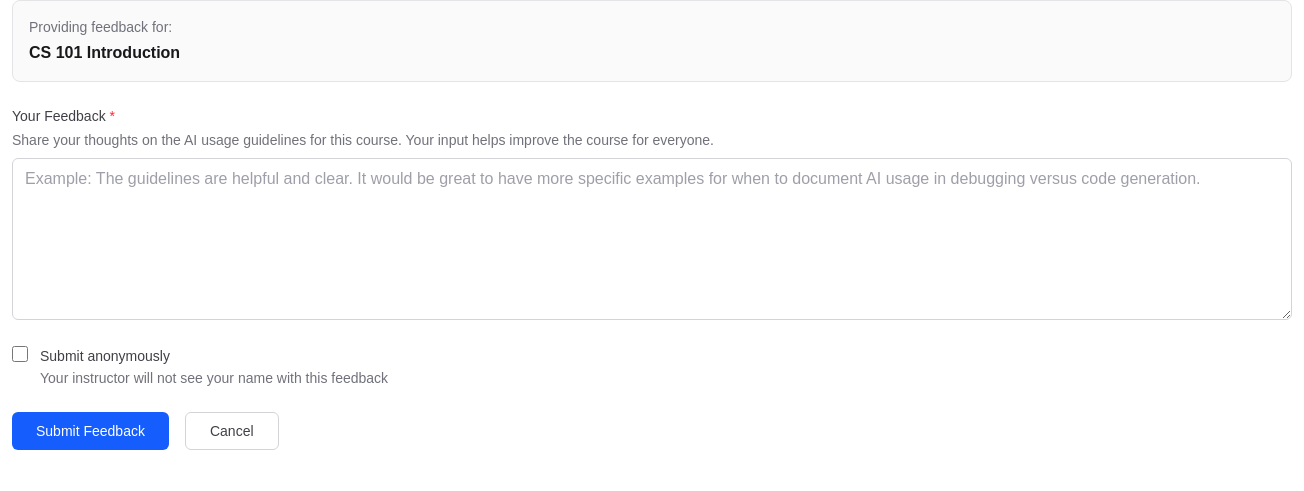
Test: FeedbackForm Component › shows validation errors when fields are empty / too short on submit
This screenshot has width=1304, height=491.
// Type too little
Type "short" into the text box labelled "Your Feedback *".
click(652, 239); type("short")  # box [12,158,1292,320]
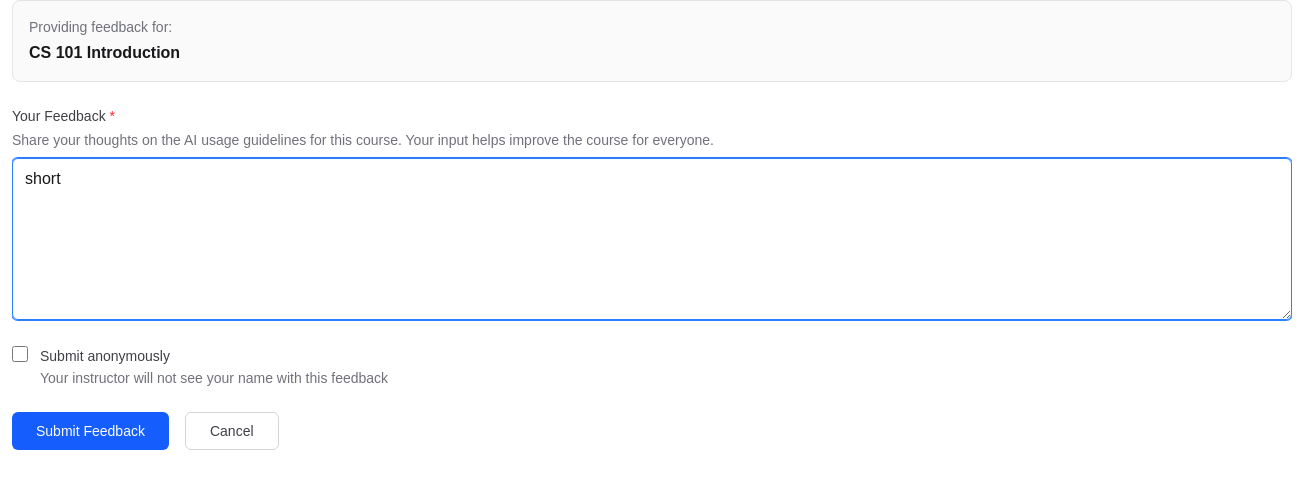
Click the button "Submit Feedback".
click(90, 431)  # box [12,412,169,450]
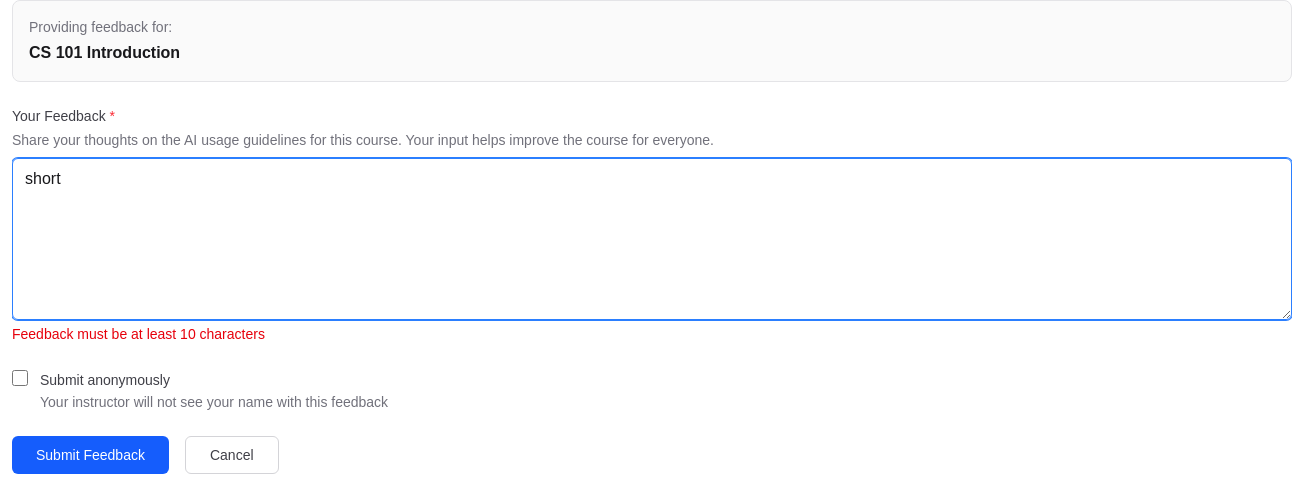
expect the text "Feedback must be at least 10 characters" is shown: met, box [12,326,265,342]
